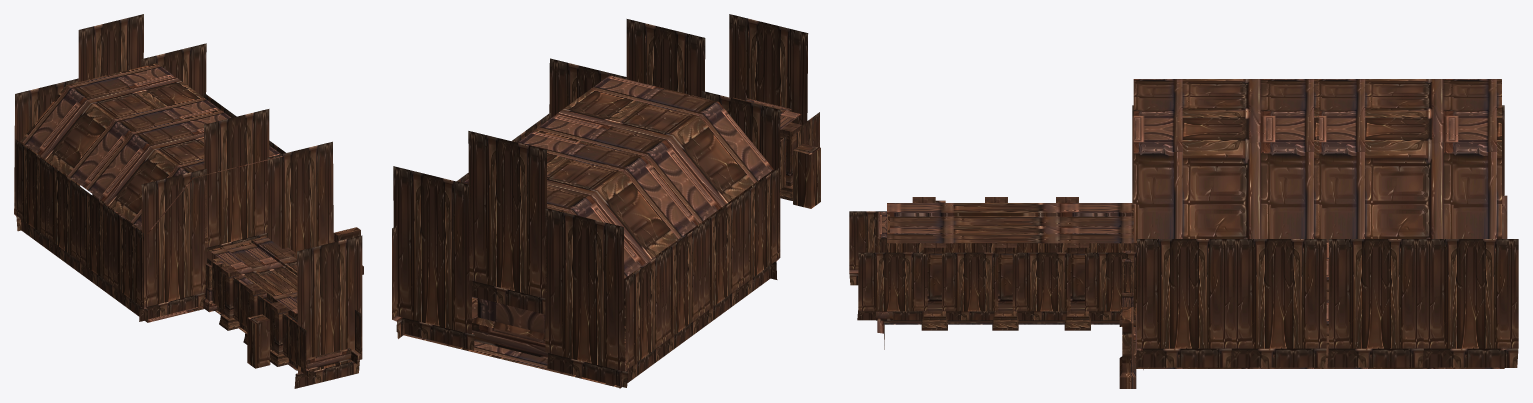
Rendered from hallway.glb.
3 renders of one model, left to right at view 1: azimuth 30°, elevation 25°; view 2: azimuth 150°, elevation 25°; view 3: azimuth 270°, elevation 25°, orthographic. The views are drawn at different scales.
Parts seen in each view (by area): view 1: Plane.015, Plane.012, Plane.019, Plane.022, Plane.013, Plane.011, Plane.027, Plane.002, Plane.009, Plane.016, Plane.010, Plane.014 (+13 smaller); view 2: Plane.013, Plane.027, Plane.029, Plane.028, Plane.015, Plane.022, Plane.019, Plane.009, Plane.014, Plane.010, Plane.016, Cube.007 (+7 smaller); view 3: Plane.013, Plane.015, Plane.008, Plane.018, Plane.017, Plane.007, Plane.002, Plane.020, Plane.005, Plane.001, Plane.006, Plane.025 (+7 smaller).
Part boxes in pixels (box(x1,y1,x2,y2)): Plane.015: box(21, 63, 219, 187); Plane.012: box(139, 168, 206, 321); Plane.019: box(204, 109, 269, 259); Plane.022: box(294, 235, 362, 388); Plane.013: box(85, 109, 283, 233); Plane.011: box(267, 141, 333, 258); Plane.027: box(78, 14, 143, 81); Plane.002: box(209, 236, 297, 313); Plane.009: box(78, 186, 115, 298); Plane.016: box(46, 162, 82, 274); Plane.010: box(111, 209, 147, 322); Plane.014: box(15, 139, 51, 250); Plane.013: box(534, 75, 773, 223); Plane.027: box(468, 131, 546, 314); Plane.029: box(545, 208, 627, 387); Plane.028: box(393, 166, 474, 350); Plane.015: box(463, 131, 698, 278); Plane.022: box(729, 14, 808, 124); Plane.019: box(626, 19, 705, 97); Plane.009: box(696, 196, 740, 332); Plane.014: box(619, 251, 664, 388); Plane.010: box(735, 167, 780, 303); Plane.016: box(657, 224, 701, 359); Cube.007: box(472, 298, 547, 358); Plane.013: box(1133, 79, 1319, 240); Plane.015: box(1316, 79, 1501, 240); Plane.008: box(1230, 239, 1326, 367); Plane.018: box(1422, 239, 1518, 367); Plane.017: box(1327, 239, 1423, 367); Plane.007: box(1136, 239, 1231, 367); Plane.002: box(887, 203, 1136, 243); Plane.020: box(857, 252, 927, 320); Plane.005: box(1012, 252, 1070, 320); Plane.001: box(942, 252, 998, 320); Plane.006: box(1085, 252, 1136, 320); Plane.025: box(849, 211, 916, 285).
Size of the model in its own units: 10.11 by 9 by 18.65.
Materials: 3 (3 with a texture image).
